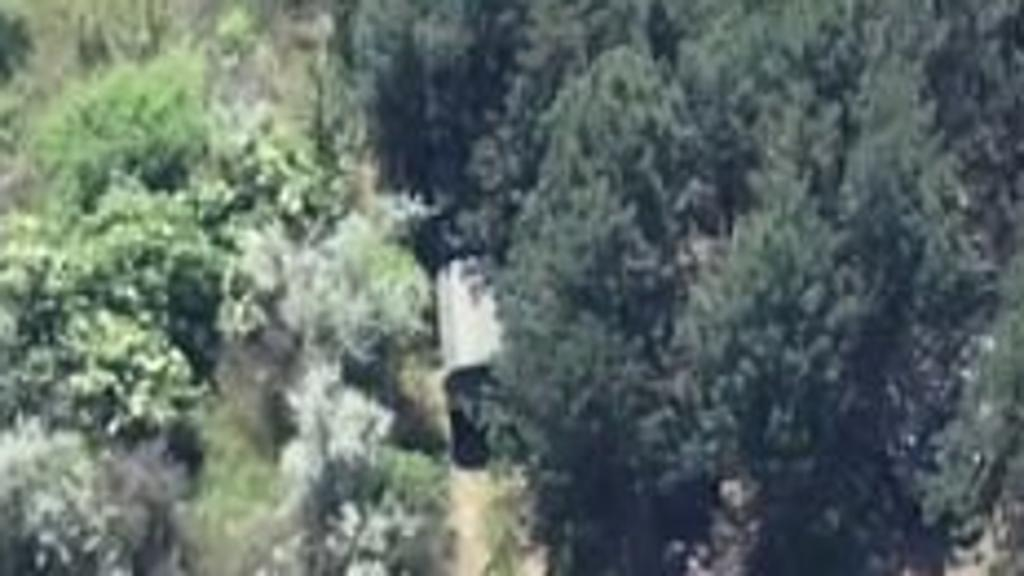TRUCK: (432, 215, 520, 417)
